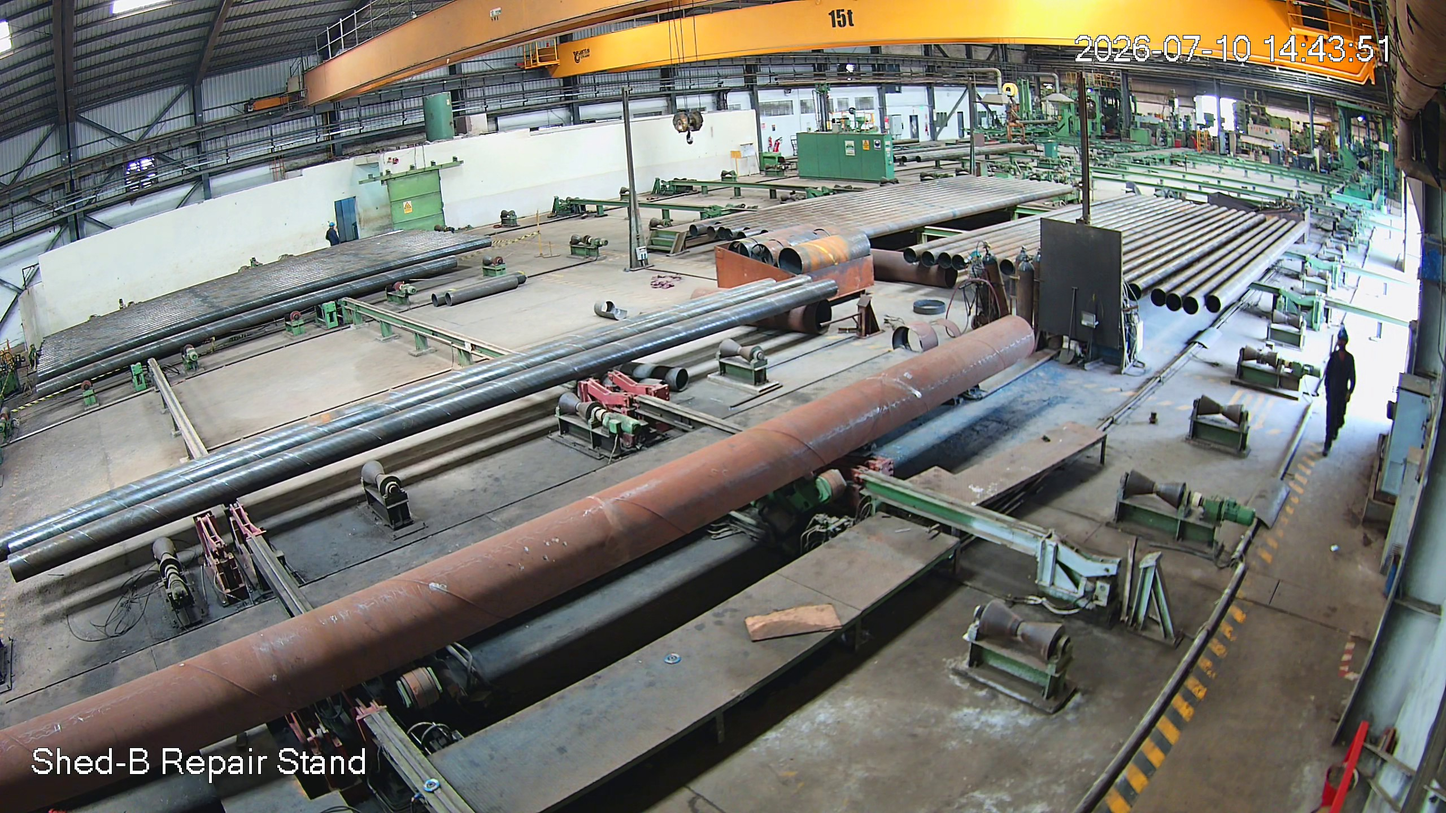Helmet: (1331, 327, 1361, 365)
Person: (1318, 331, 1361, 459)
